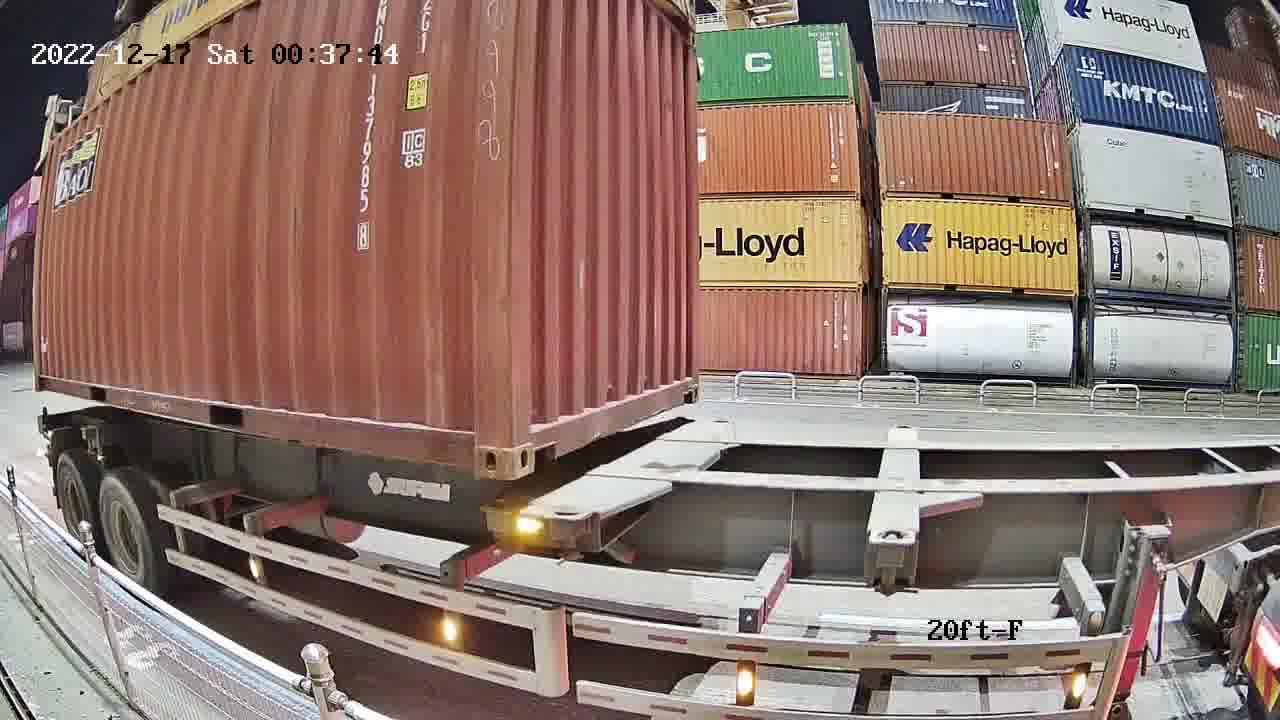Cone: (483, 501, 517, 558)
Hole_L: (514, 401, 568, 479)
Hole_R: (443, 405, 516, 478), (663, 354, 703, 408)
Tire: (97, 479, 154, 586), (57, 458, 92, 539)
